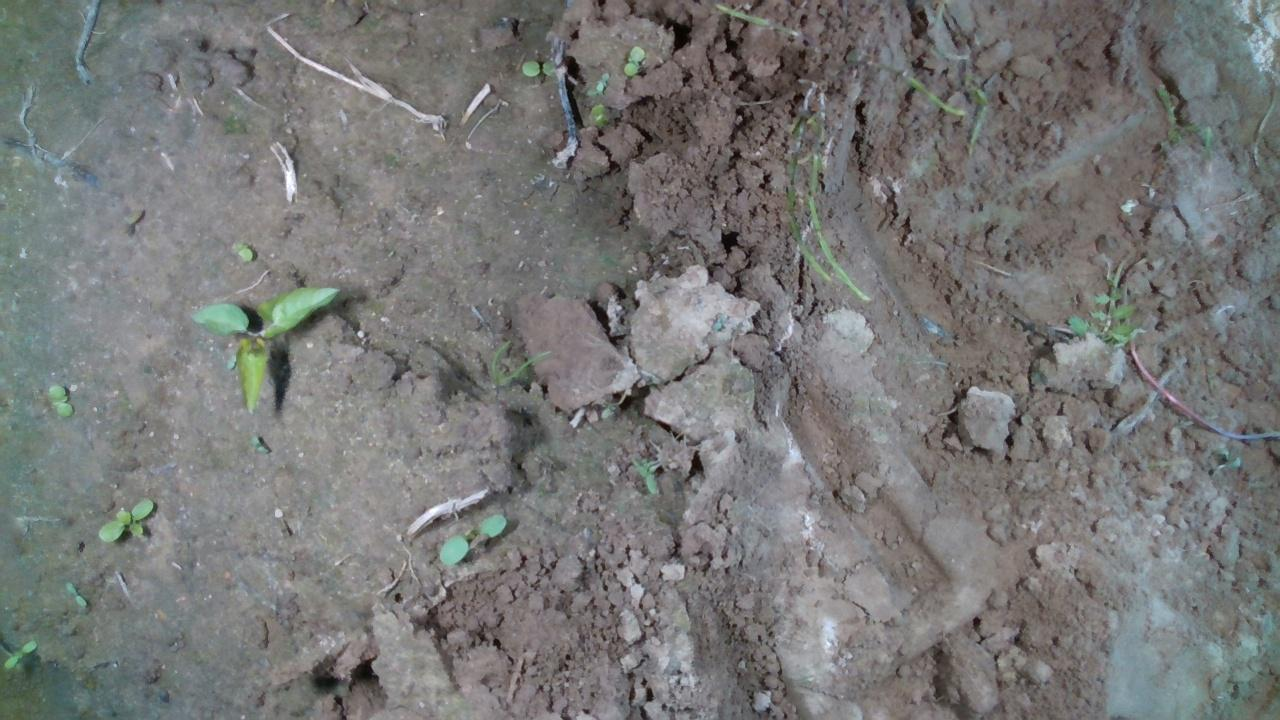weed: (187, 285, 341, 414), (435, 512, 507, 567), (94, 496, 154, 545), (2, 638, 37, 670), (45, 382, 73, 418), (518, 57, 557, 78), (621, 42, 644, 76), (63, 580, 87, 608), (230, 239, 253, 262), (249, 434, 270, 455), (595, 69, 608, 91)
